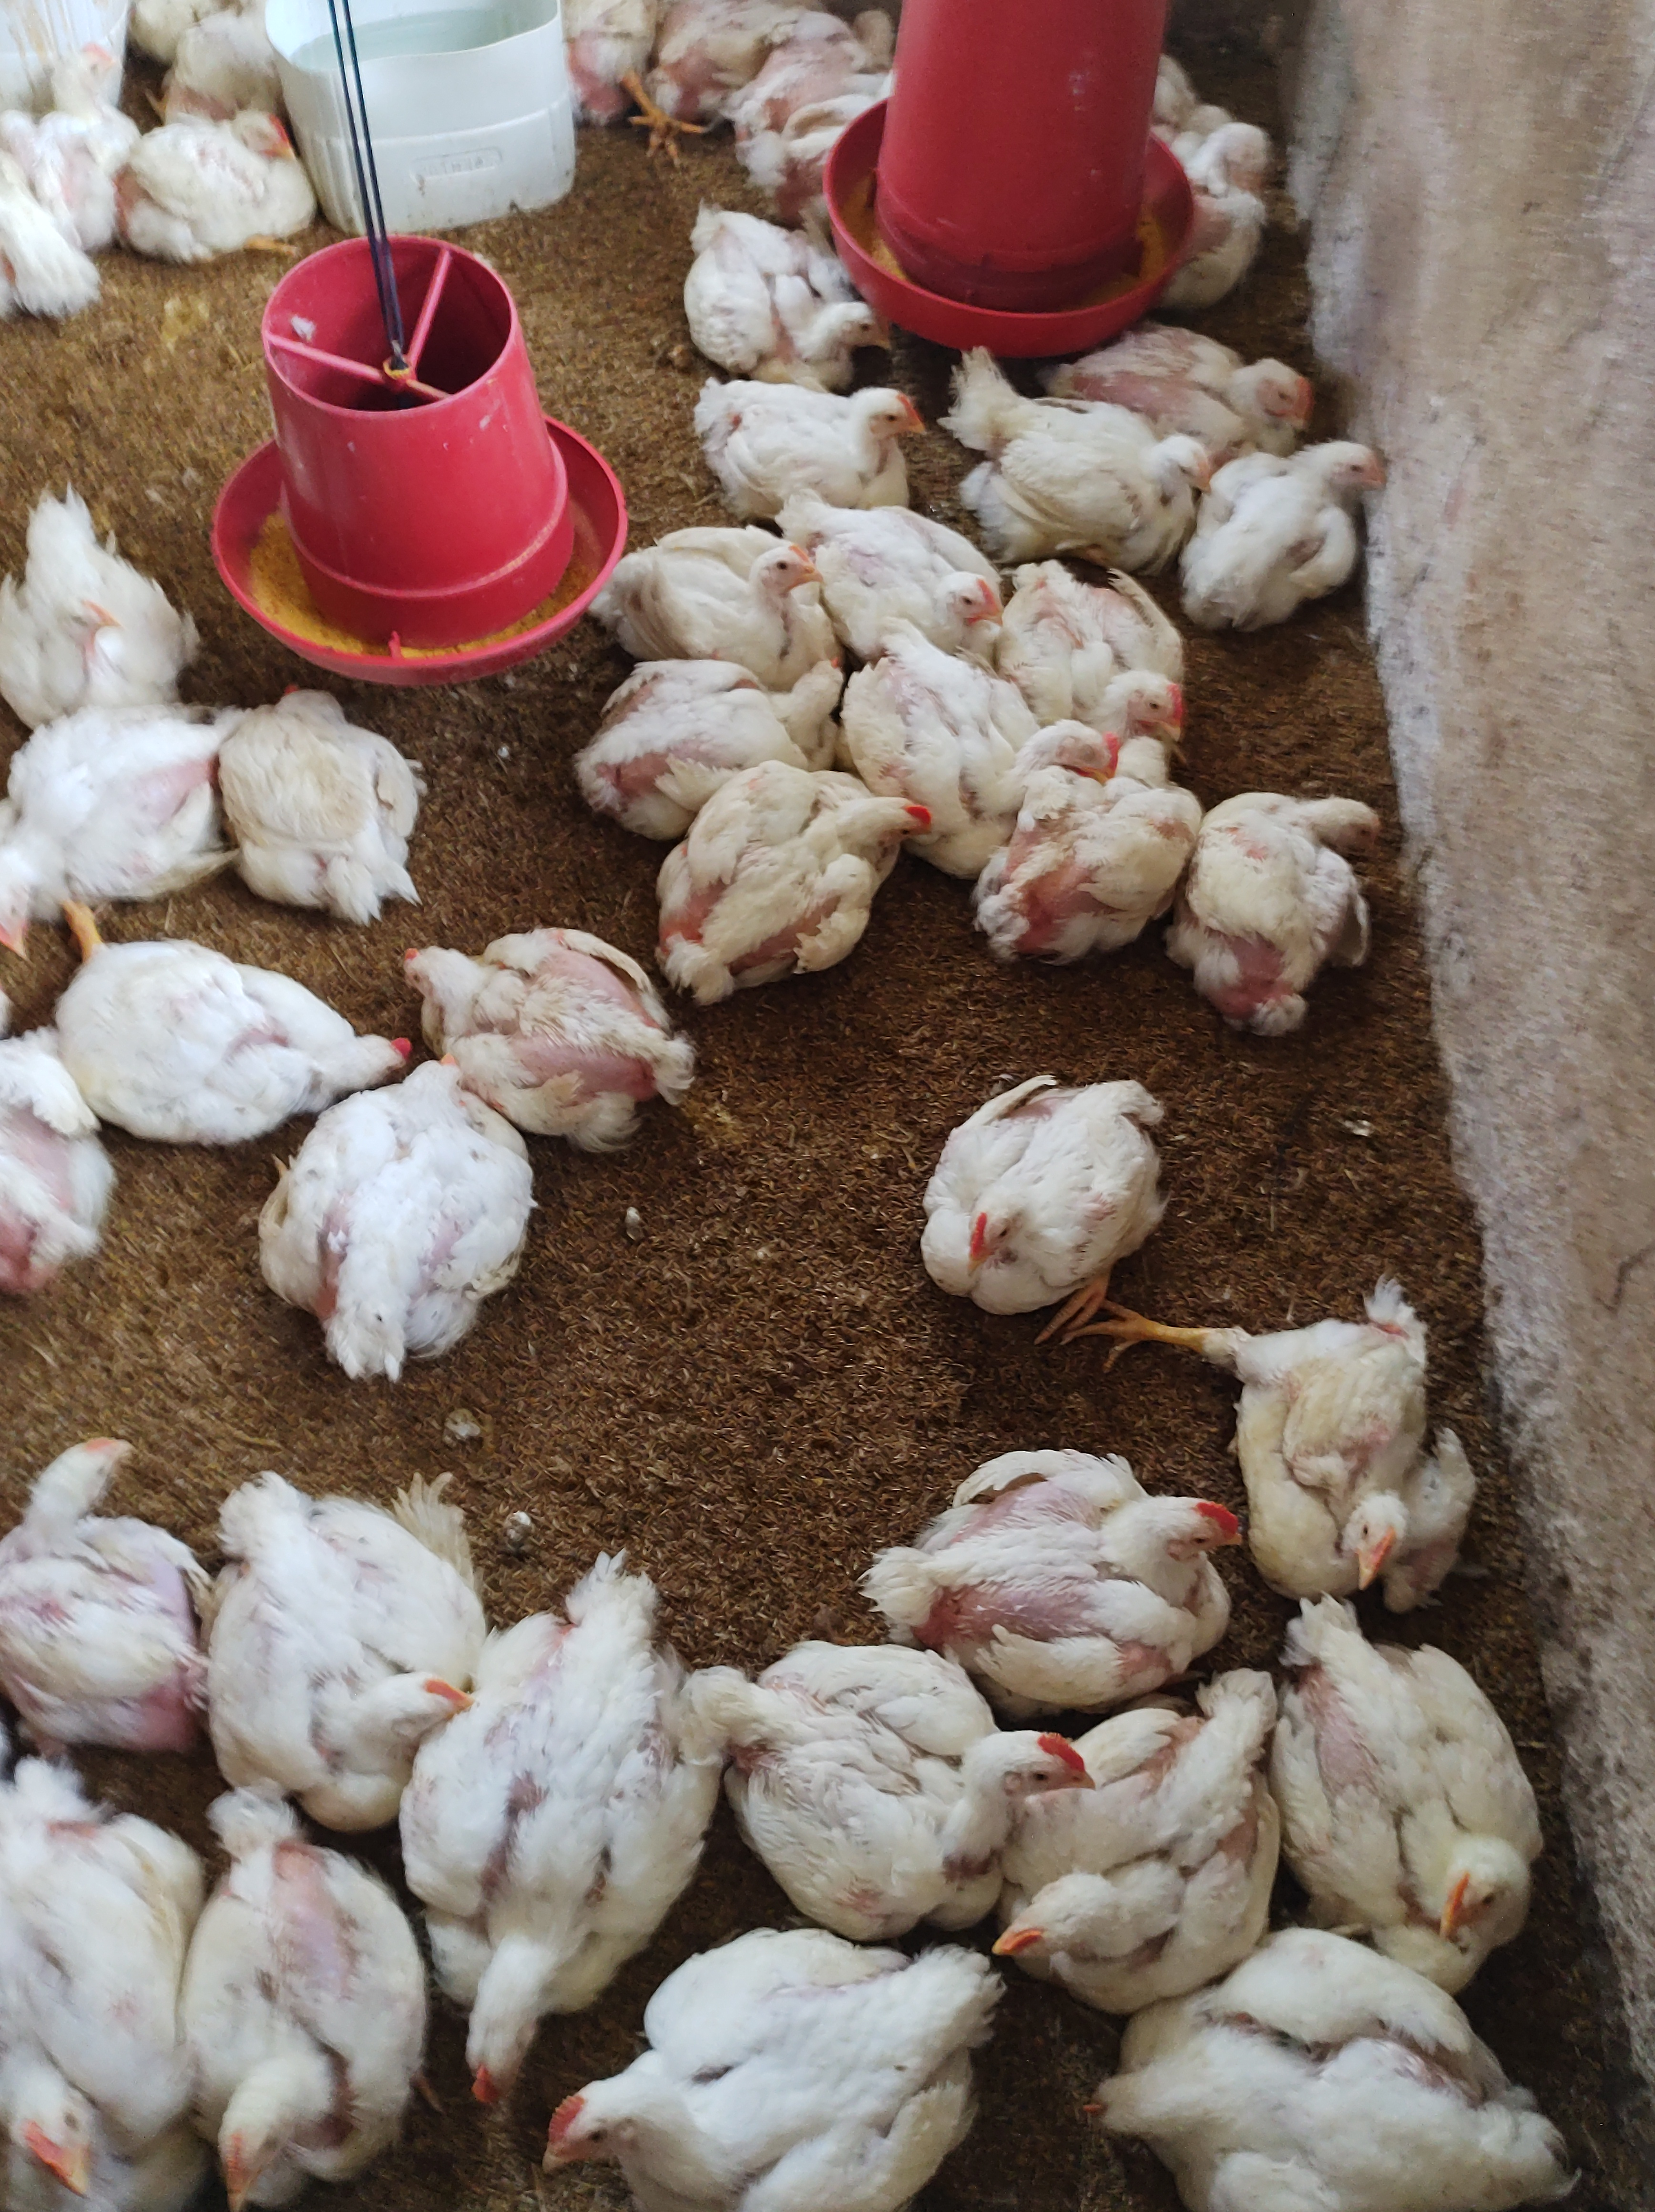Pollos: (426, 1598, 730, 2109), (551, 1930, 989, 2198), (1090, 2002, 1608, 2209), (181, 1826, 440, 2210), (730, 1636, 1090, 1908), (1283, 1631, 1559, 1962), (7, 1749, 203, 2203), (989, 1696, 1288, 1986), (1227, 1299, 1485, 1609), (935, 1443, 1243, 1692), (221, 1492, 464, 1803), (50, 929, 407, 1136), (275, 1075, 527, 1363), (668, 748, 934, 1019), (918, 1075, 1173, 1327), (2, 1424, 198, 1729), (3, 699, 226, 965), (984, 736, 1227, 956), (1194, 784, 1391, 1049), (407, 920, 681, 1108), (231, 670, 428, 925), (584, 643, 847, 802), (3, 482, 186, 704), (1208, 430, 1410, 617), (695, 367, 934, 518), (0, 1031, 127, 1313), (678, 203, 890, 370), (1003, 556, 1201, 732), (607, 511, 824, 666), (132, 97, 309, 283), (1099, 301, 1339, 438), (993, 410, 1206, 555), (1165, 92, 1316, 290), (824, 503, 1010, 659), (0, 125, 101, 318), (640, 2, 767, 148), (546, 0, 647, 169), (57, 16, 143, 146), (1031, 704, 1121, 786)
